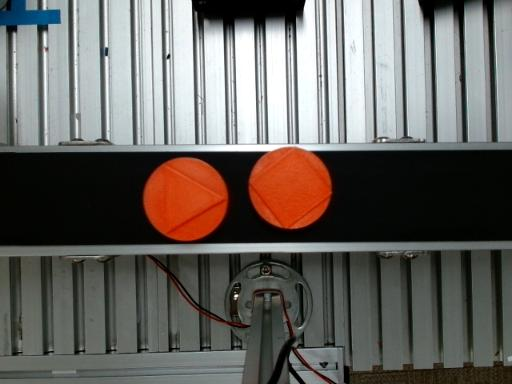Not_Square: (164, 164, 225, 236)
Orange_Waper: (143, 158, 228, 241), (249, 148, 331, 229)
Square: (249, 147, 333, 230)
